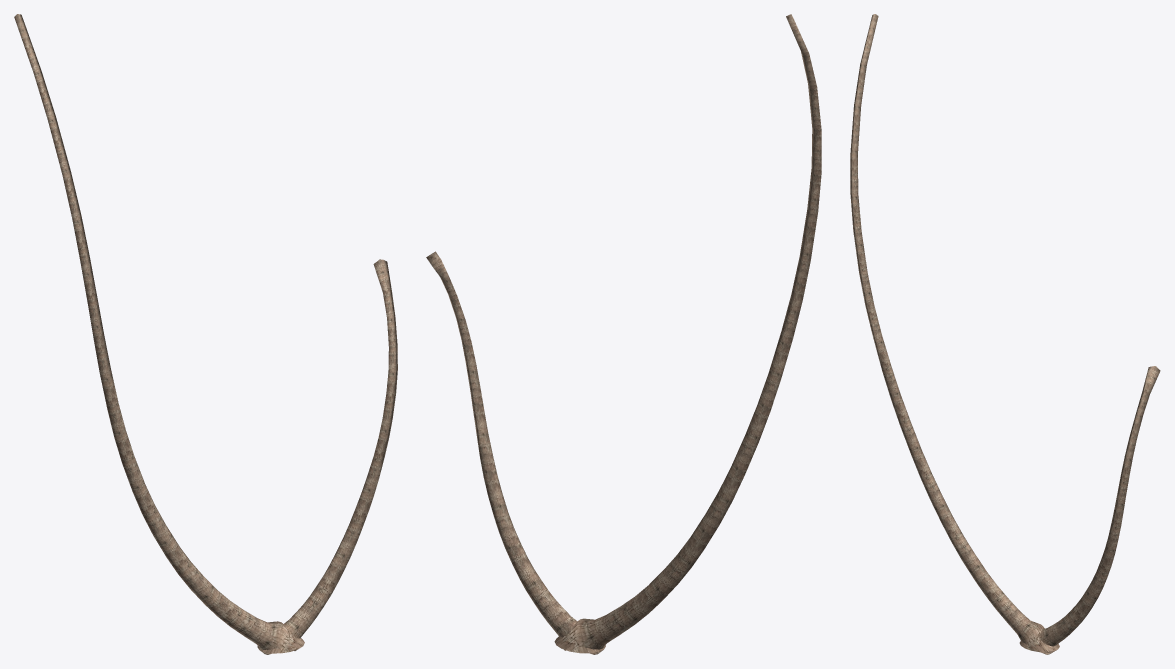
The model's file is m_palm_p2_19_trunk_0.001.glb.
The picture shows the model from 3 angles, left to right: view 1: azimuth 30°, elevation 25°; view 2: azimuth 150°, elevation 25°; view 3: azimuth 330°, elevation 25°; orthographic projection. The views are drawn at different scales.
Visible parts, largest first — view 1: M_Palm_P2_19_Trunk_0.001; view 2: M_Palm_P2_19_Trunk_0.001; view 3: M_Palm_P2_19_Trunk_0.001.
Part boxes in pixels (x1=…): M_Palm_P2_19_Trunk_0.001: x1=14, y1=14, x2=397, y2=654; M_Palm_P2_19_Trunk_0.001: x1=426, y1=14, x2=821, y2=654; M_Palm_P2_19_Trunk_0.001: x1=850, y1=14, x2=1160, y2=654.
Bounding box in the file's own units: 3.63 × 6.52 × 0.8501.
1 material, 1 textured.
